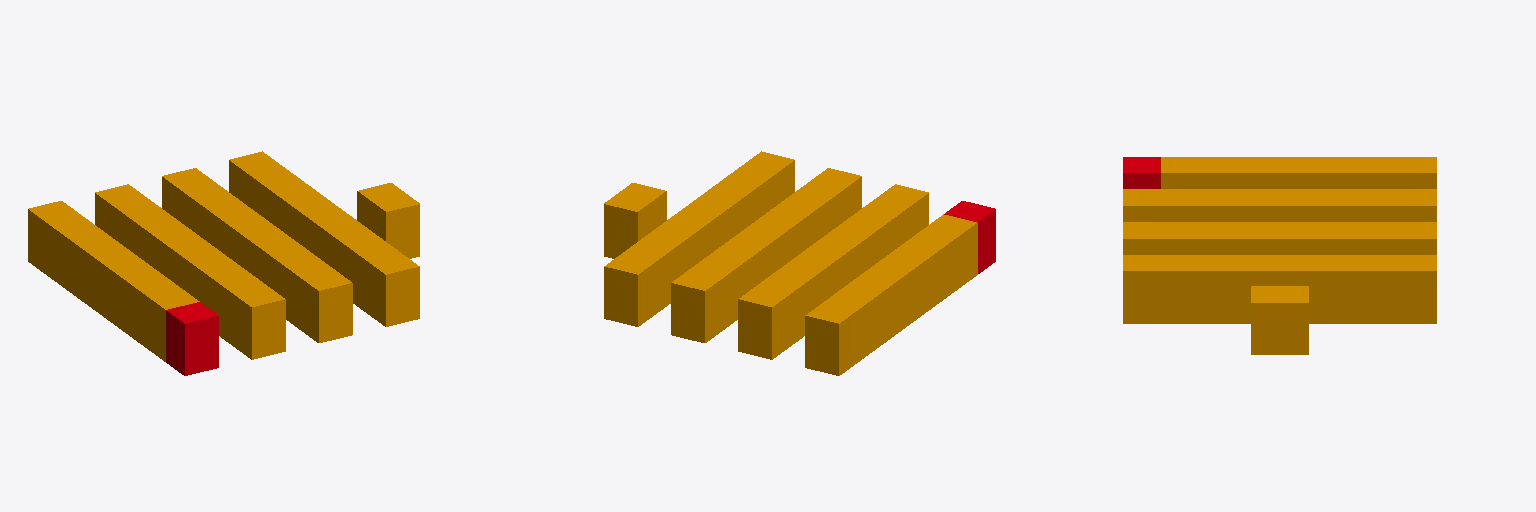
3 renders of one model, left to right at view 1: azimuth 30°, elevation 25°; view 2: azimuth 150°, elevation 25°; view 3: azimuth 270°, elevation 25°, orthographic.
Parts seen in each view (by area): view 1: Cube.001; view 2: Cube.001; view 3: Cube.001.
Boxes of the visible parts, x1=… form: Cube.001: x1=28, y1=151, x2=419, y2=375; Cube.001: x1=604, y1=151, x2=995, y2=375; Cube.001: x1=1123, y1=157, x2=1436, y2=354.
Size of the model in its own units: 2.21 by 0.3695 by 2.
Materials: 1 (1 with a texture image).